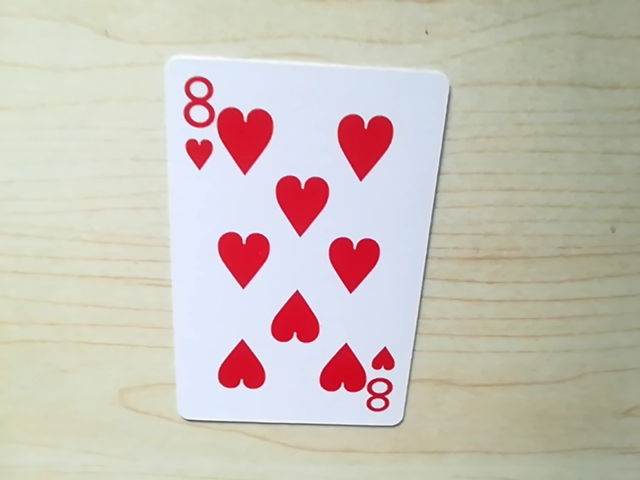hx 8: (175, 67, 220, 126), (357, 364, 400, 421)
